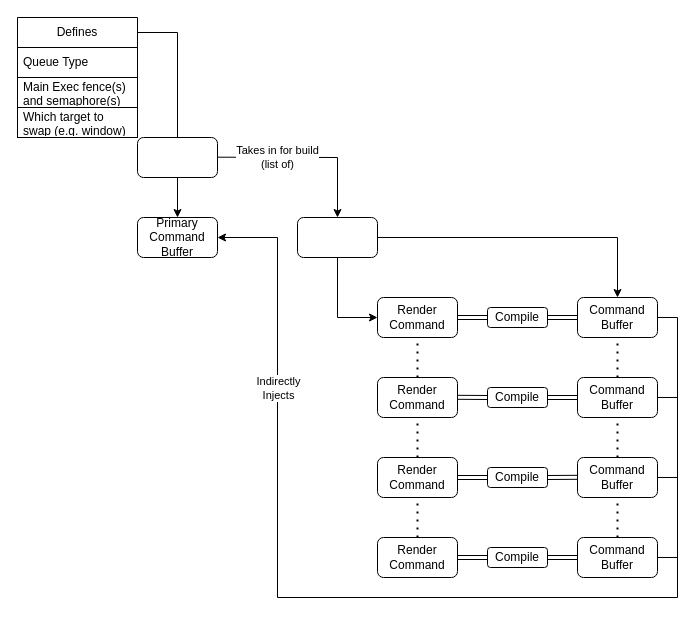
The diagram is 696 pixels wide and 623 high, and some of its shapes have lost their labels. The centre of each missing label's shape, as x and y in pixels:
"Command Executor" belongs at (x=177, y=157).
"Command Stream" belongs at (x=337, y=237).
